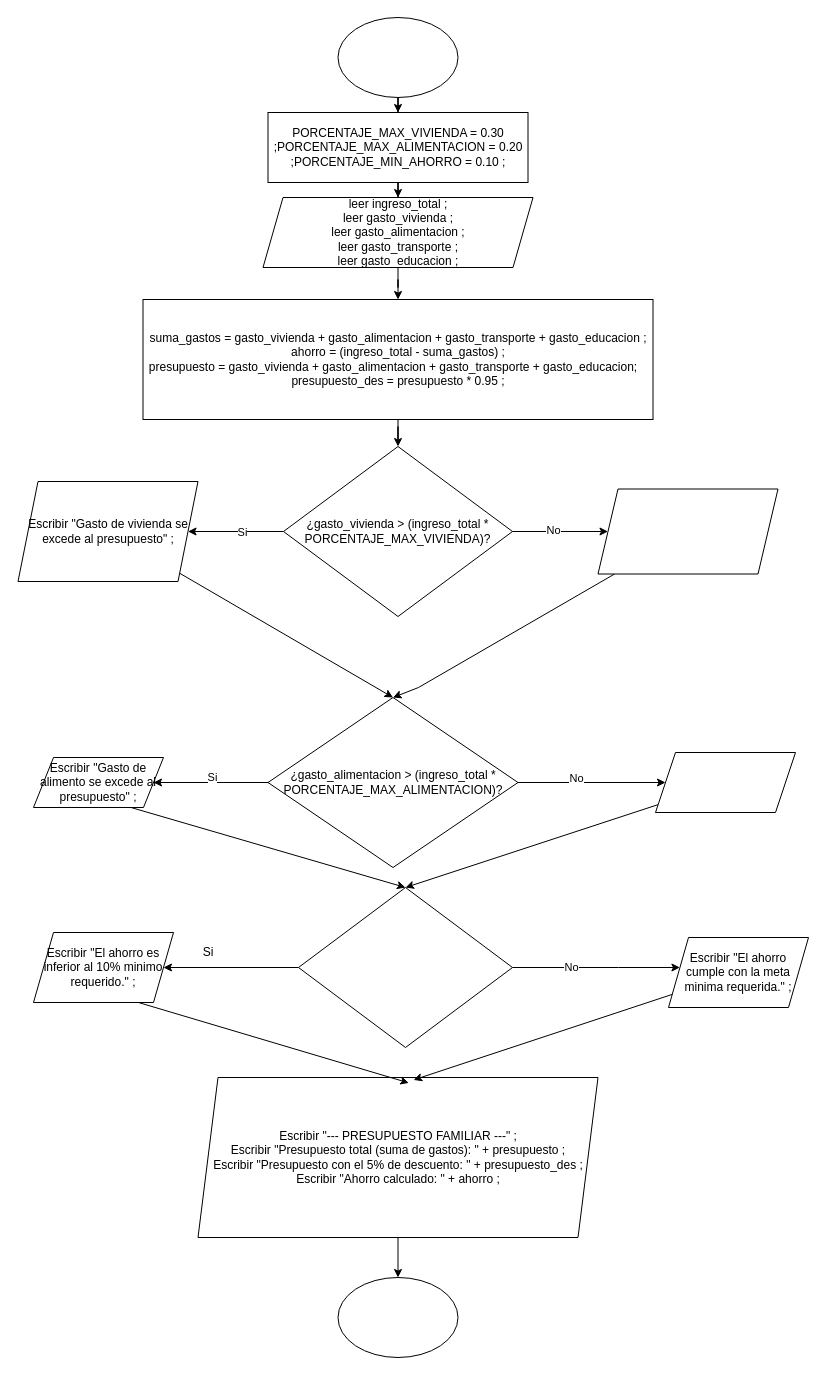
Some shapes in this 826 by 1383 pixel diagram are drawn without their labels. The centre of each missing label's shape, as x and y in pixels:
Escribir "Gasto de alimento esta dentro del presupuesto" ;: [725,782]
Escribir "Gasto de vivienda esta dentro del presupuesto" ;: [687,531]
Fin: [397,1317]
Inicio: [397,57]
¿ahorro < (ingreso_total * PORCENTAJE_MIN_AHORRO)?: [405,967]
